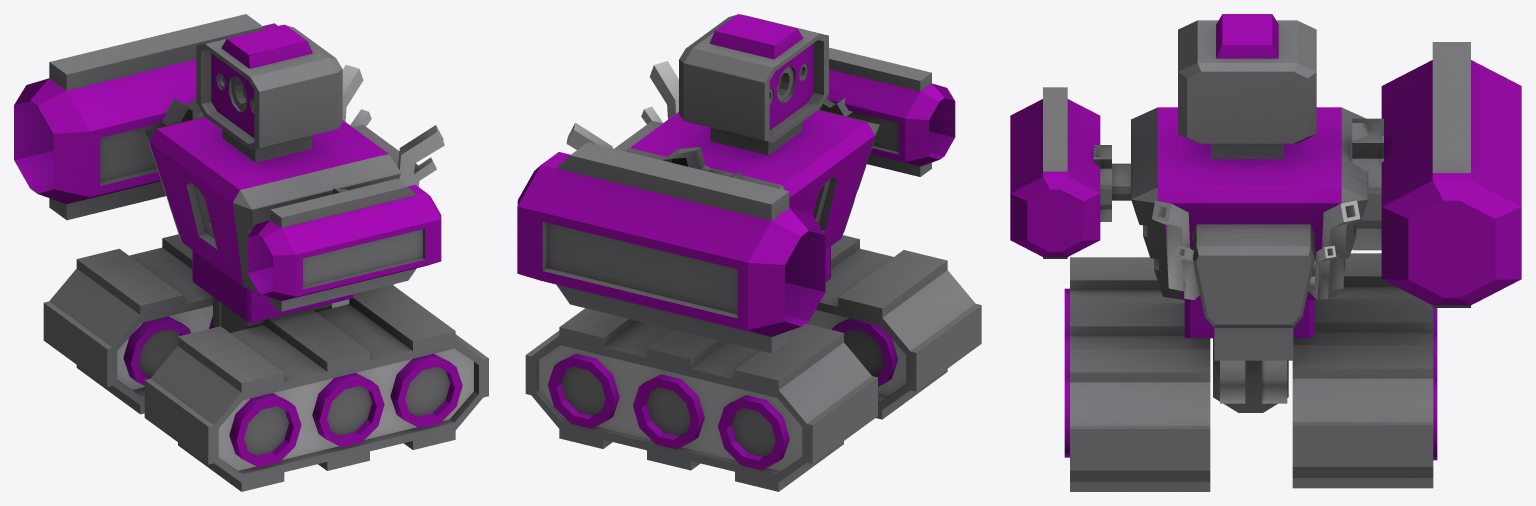
The model's file is Enemy2_Move14.obj.
3 renders of one model, left to right at view 1: azimuth 30°, elevation 25°; view 2: azimuth 150°, elevation 25°; view 3: azimuth 270°, elevation 25°, orthographic. The views are drawn at different scales.
Parts seen in each view (by area): view 1: Object006, Object007, Object010, Object009; view 2: Object006, Object007, Object010, Object009; view 3: Object006, Object007, Object010, Object009, Object008.
Boxes of the visible parts, x1,y1,x2,y2 form: Object006: (14, 14, 488, 491); Object007: (144, 24, 400, 332); Object010: (332, 65, 444, 307); Object009: (161, 98, 204, 125); Object006: (517, 47, 981, 491); Object007: (627, 14, 879, 324); Object010: (566, 61, 678, 151); Object009: (663, 147, 744, 180); Object006: (1010, 42, 1521, 491); Object007: (1131, 14, 1368, 412); Object010: (1152, 200, 1360, 403); Object009: (1352, 118, 1383, 250); Object008: (1093, 145, 1131, 221).
Bounding box in the file's own units: 87.45 × 109 × 125.
